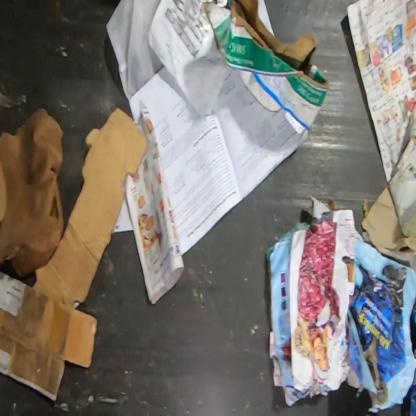cardboard: (32, 105, 153, 309), (201, 0, 330, 134), (0, 269, 100, 402), (359, 183, 415, 256)
